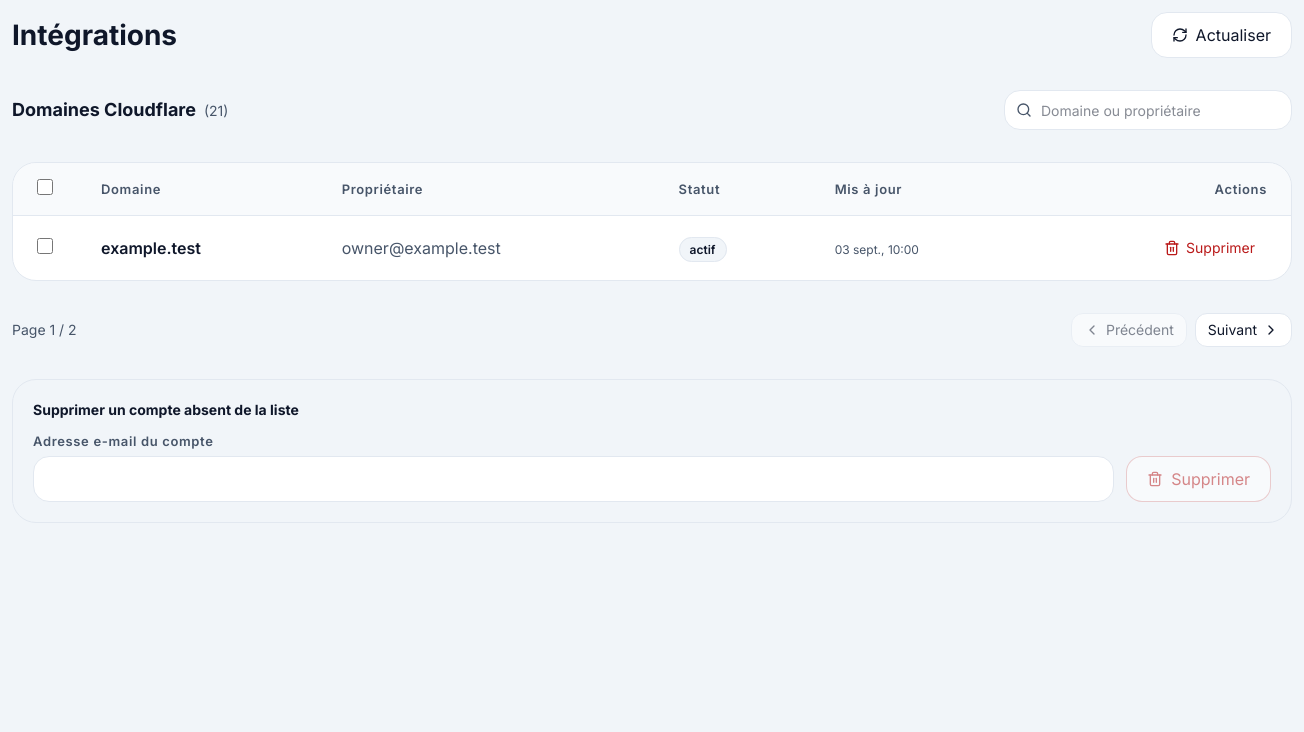
account erasure from the console › refuses the admin's own address in the form without opening the dialog
Type " Admin@Example.test " into the field labelled "Adresse e-mail du compte".
click(574, 479); type(" Admin@Example.test ")  # box top-left (33, 456), bottom-right (1114, 502)
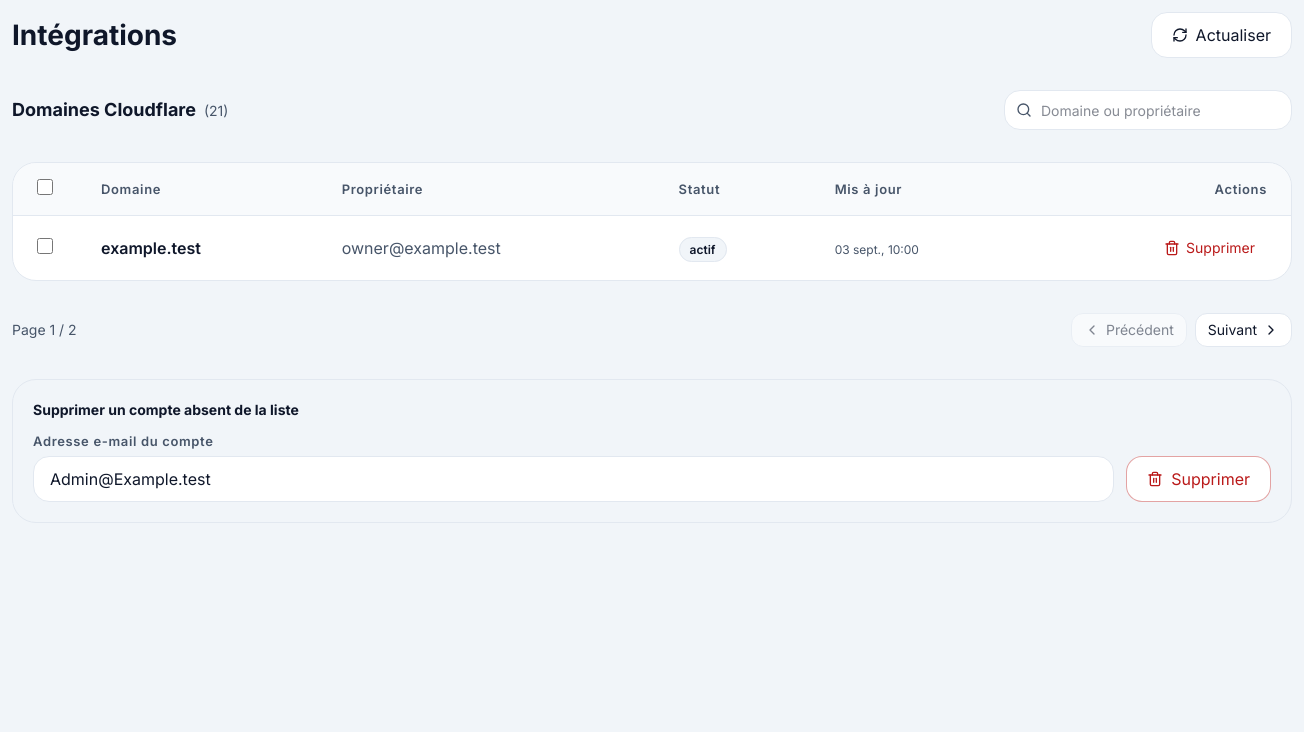
Click the 2nd button "Supprimer".
click(1199, 479)  # box top-left (1126, 456), bottom-right (1271, 502)
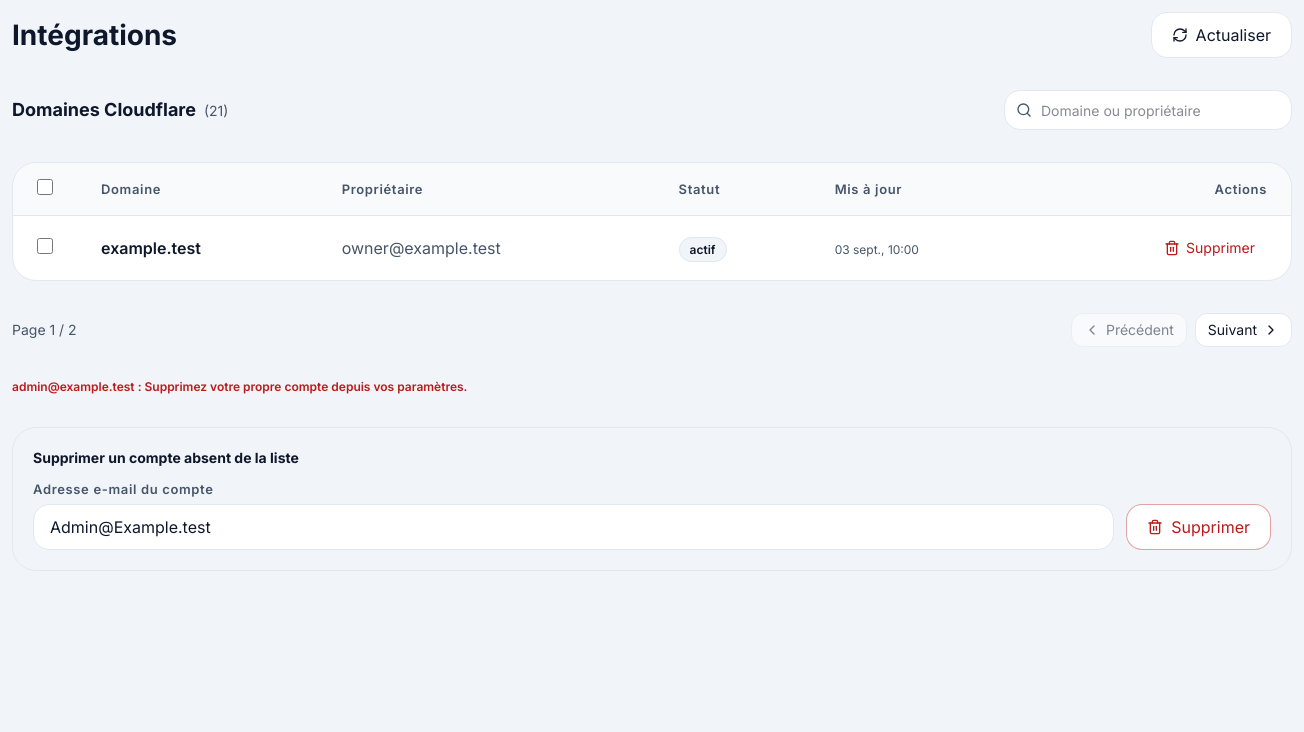
Now the message shows "Supprimez votre propre compte depuis vos paramètres.", box top-left (144, 379), bottom-right (467, 394)
